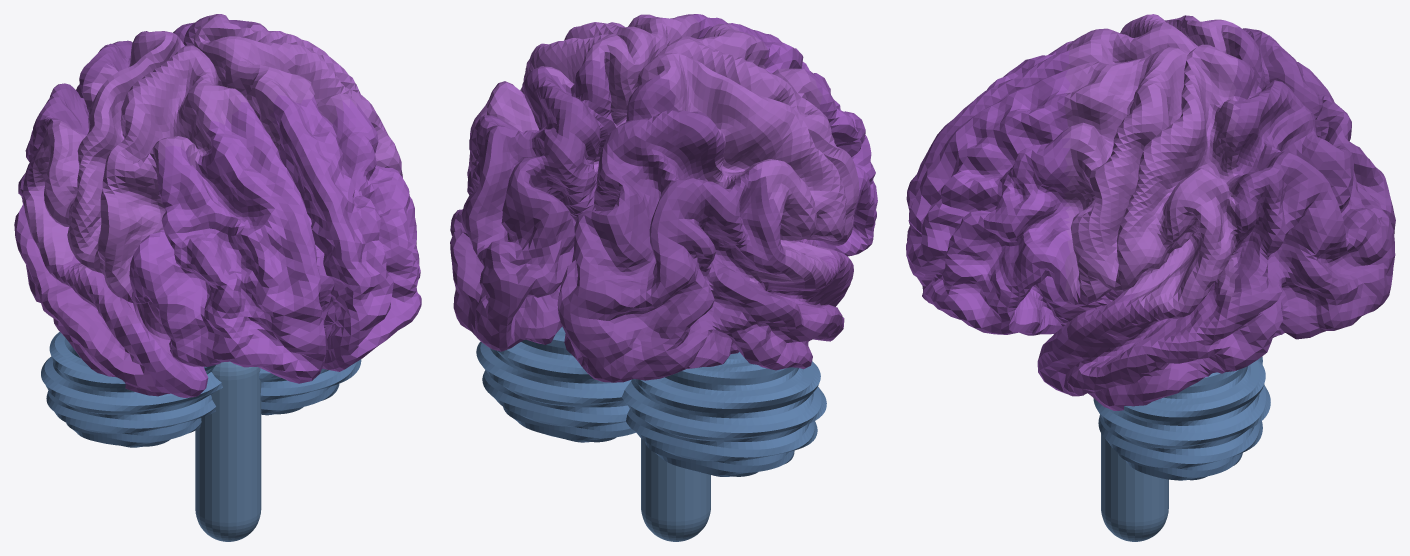
The model's file is brain-fsaverage5.glb.
The picture shows the model from 3 angles, left to right: view 1: azimuth 30°, elevation 25°; view 2: azimuth 150°, elevation 25°; view 3: azimuth 270°, elevation 25°; orthographic projection. The views are drawn at different scales.
Parts seen in each view (by area): view 1: left_frontal, left_parietal, right_frontal, right_parietal, brainstem, left_temporal, left_cerebellum, left_occipital, right_cerebellum, right_occipital; view 2: left_occipital, right_occipital, left_parietal, left_cerebellum, right_cerebellum, right_parietal, left_temporal, left_frontal, brainstem; view 3: right_parietal, right_frontal, right_occipital, right_temporal, right_cerebellum, left_occipital, left_parietal, brainstem, left_frontal.
Part boxes in pixels (<box>): left_frontal: <box>126,102,326,397</box>; left_parietal: <box>24,31,250,292</box>; right_frontal: <box>269,95,421,371</box>; right_parietal: <box>189,14,402,177</box>; brainstem: <box>195,361,261,541</box>; left_temporal: <box>20,238,200,396</box>; left_cerebellum: <box>41,332,222,447</box>; left_occipital: <box>14,31,149,300</box>; right_cerebellum: <box>259,359,361,415</box>; right_occipital: <box>173,16,264,45</box>; left_occipital: <box>557,74,793,382</box>; right_occipital: <box>450,60,615,351</box>; left_parietal: <box>637,23,859,283</box>; left_cerebellum: <box>621,352,826,476</box>; right_cerebellum: <box>476,326,635,442</box>; right_parietal: <box>467,14,700,177</box>; left_temporal: <box>730,231,853,370</box>; left_frontal: <box>725,23,877,306</box>; brainstem: <box>641,438,710,541</box>; right_parietal: <box>1062,44,1240,312</box>; right_frontal: <box>906,69,1071,395</box>; right_occipital: <box>1230,57,1395,370</box>; right_temporal: <box>1062,272,1240,410</box>; right_cerebellum: <box>1093,359,1270,480</box>; left_occipital: <box>1235,27,1395,233</box>; left_parietal: <box>1063,14,1239,71</box>; brainstem: <box>1101,433,1168,541</box>; left_frontal: <box>906,42,1069,241</box>.
Bounding box in the file's own units: 2.07 × 2.95 × 2.59.
